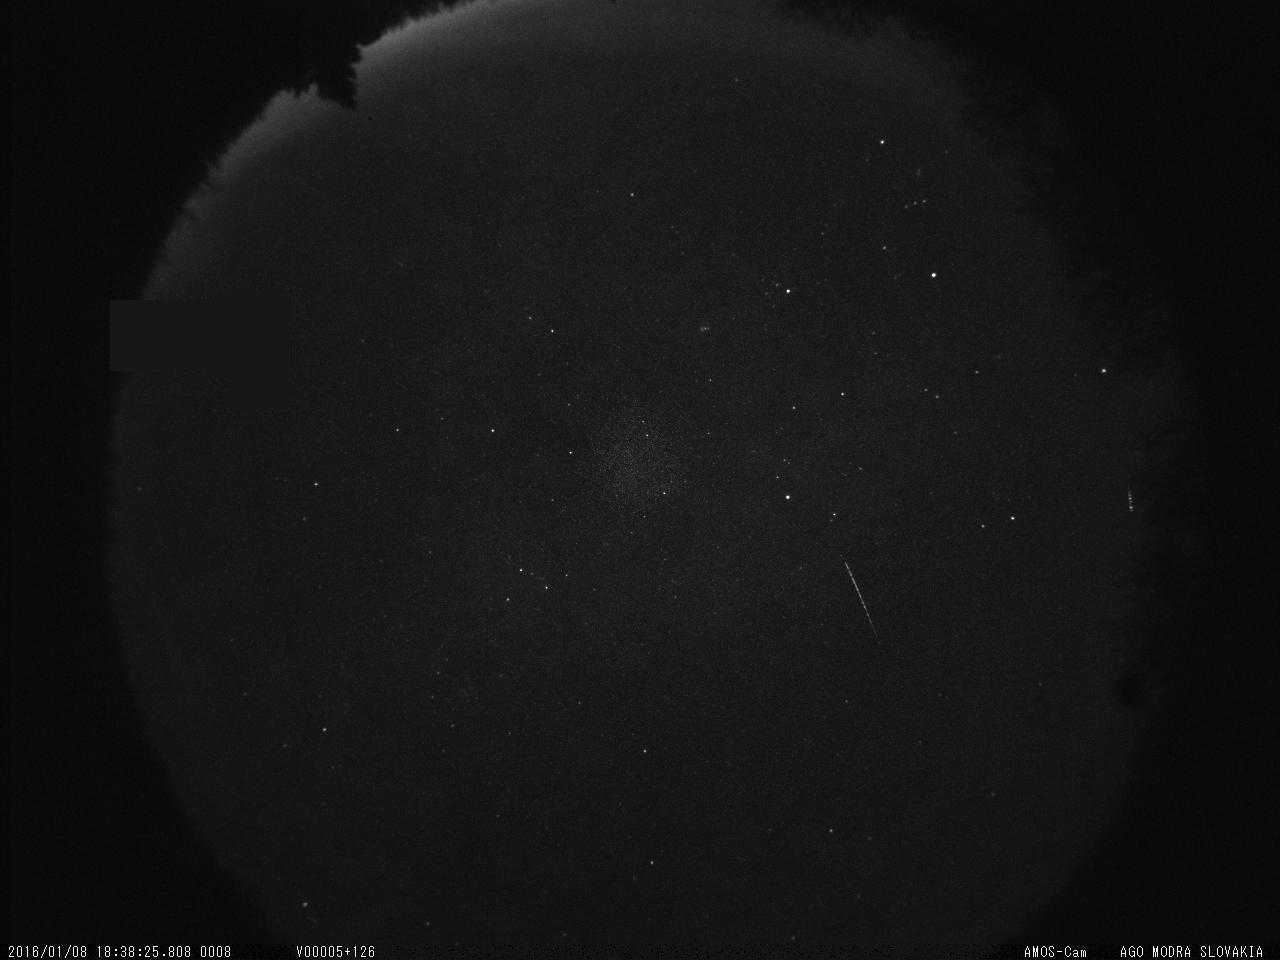Meteor: (842, 554, 883, 640), (1124, 481, 1138, 518)
